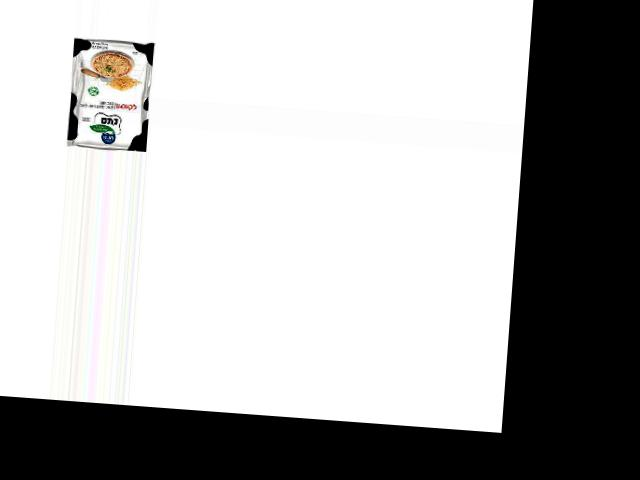cheese: (65, 35, 157, 153)
